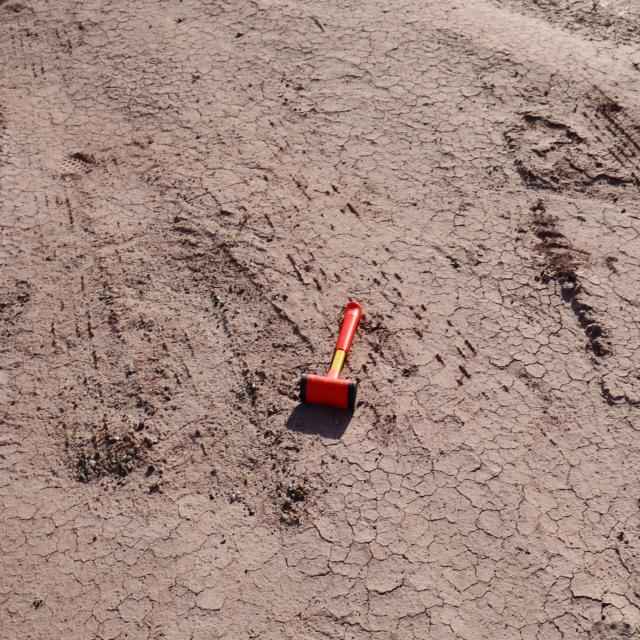mallet: (299, 301, 363, 414)
